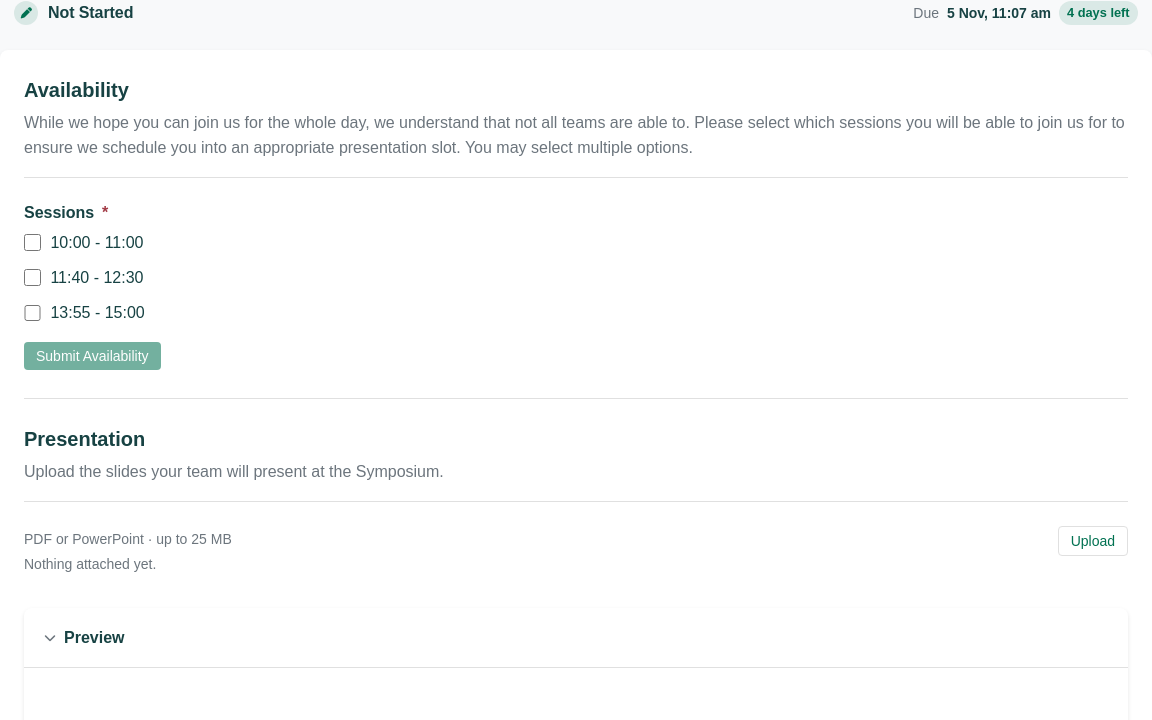
Test case: availability › submits the ticked times for the team and says who did, when
Click the checkbox labelled "10:00 - 11:00": (32, 243) x1=24 y1=234 x2=41 y2=251
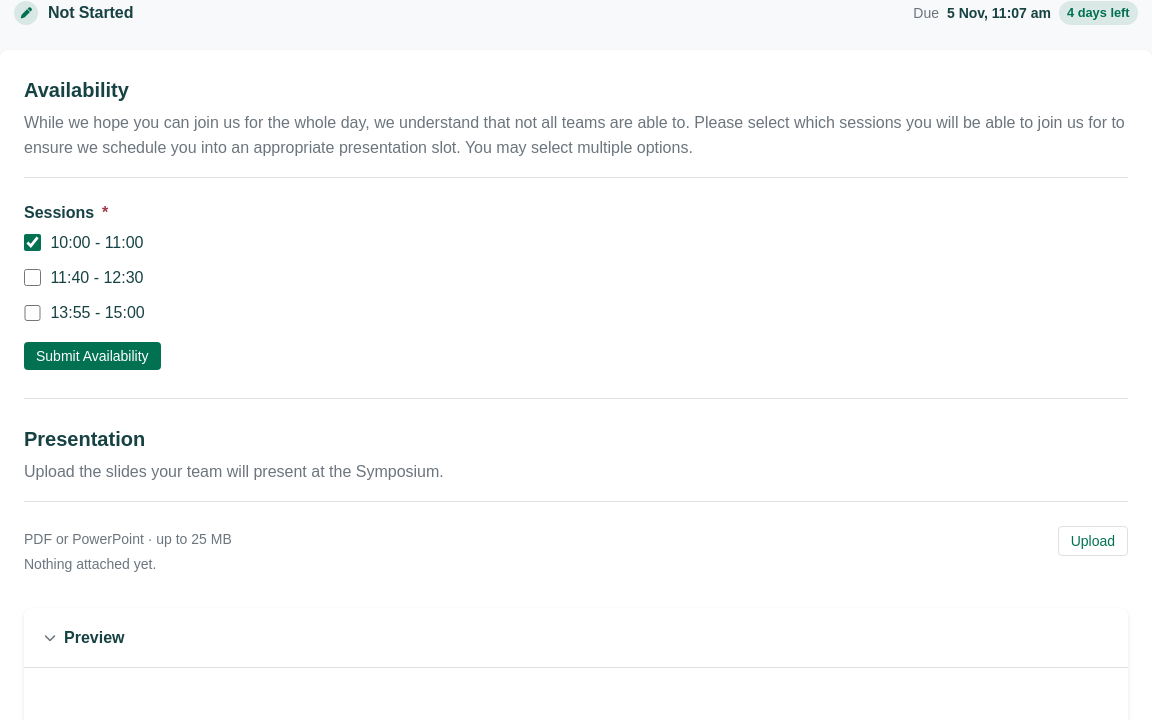
Click the checkbox labelled "13:55 - 15:00": (32, 313) x1=24 y1=304 x2=41 y2=321
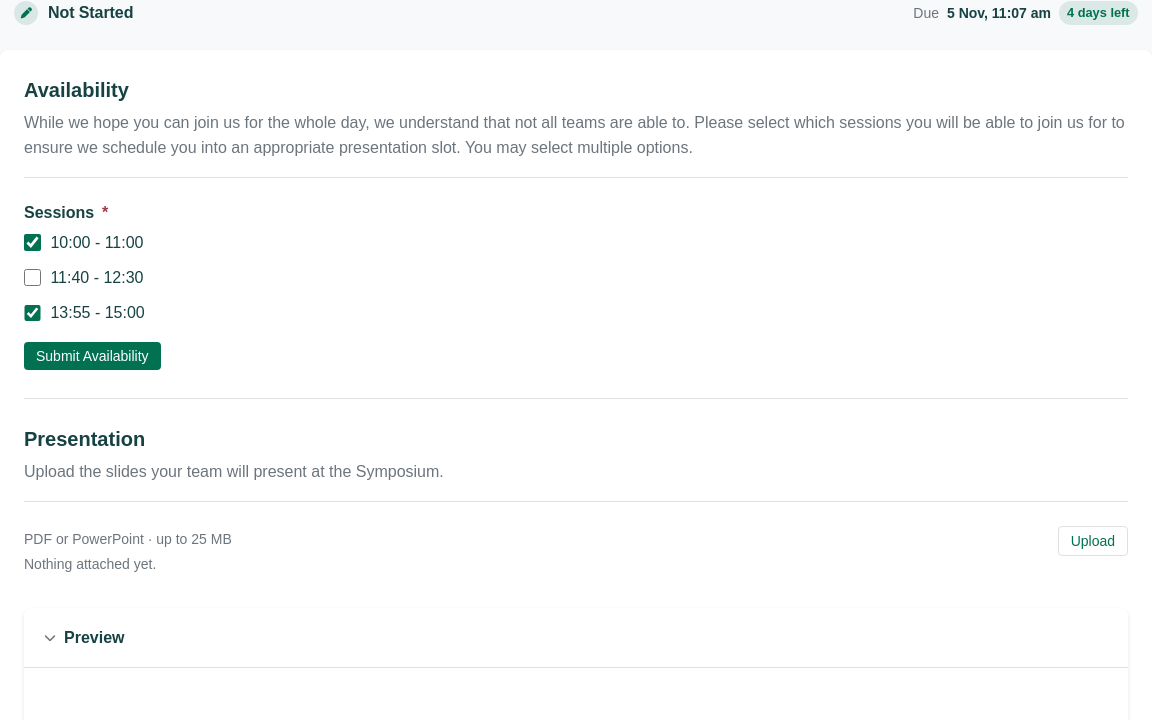
Click the button with test id "submit-availability": (92, 356) x1=24 y1=342 x2=161 y2=370
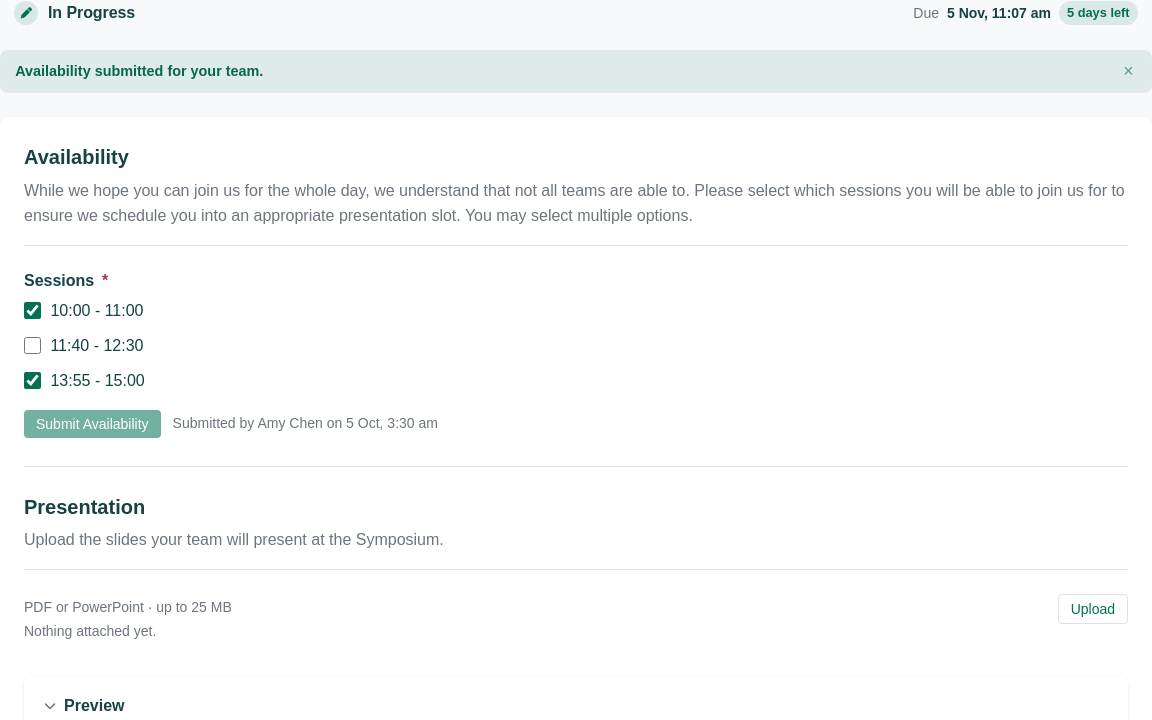
Check: the button with test id "submit-availability" is disabled, box x1=24 y1=410 x2=161 y2=438
